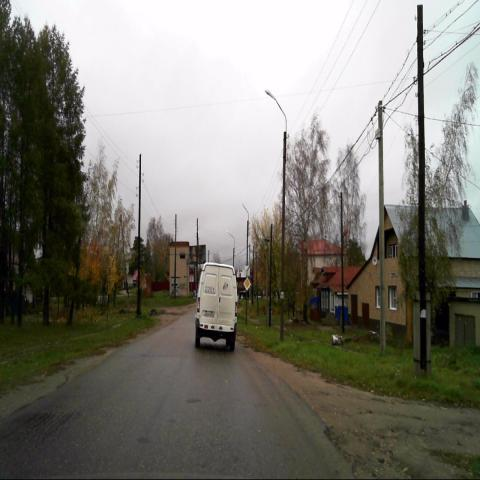2_1: (243, 277, 250, 291)
